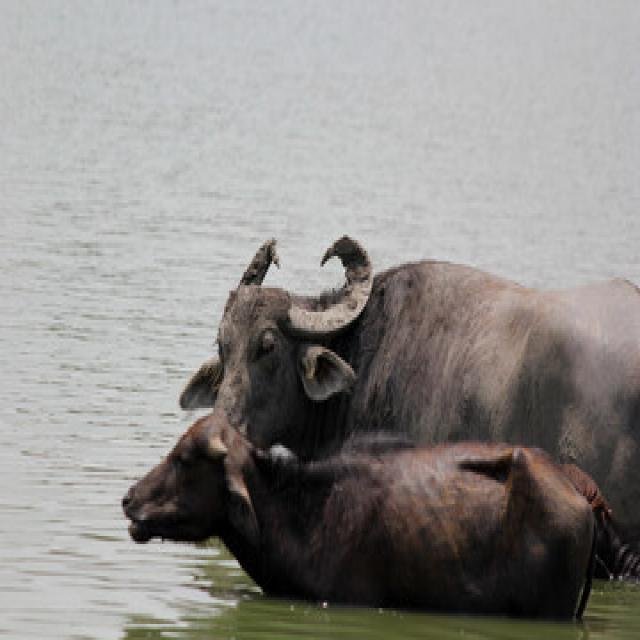Buffalo: (112, 412, 605, 611)
